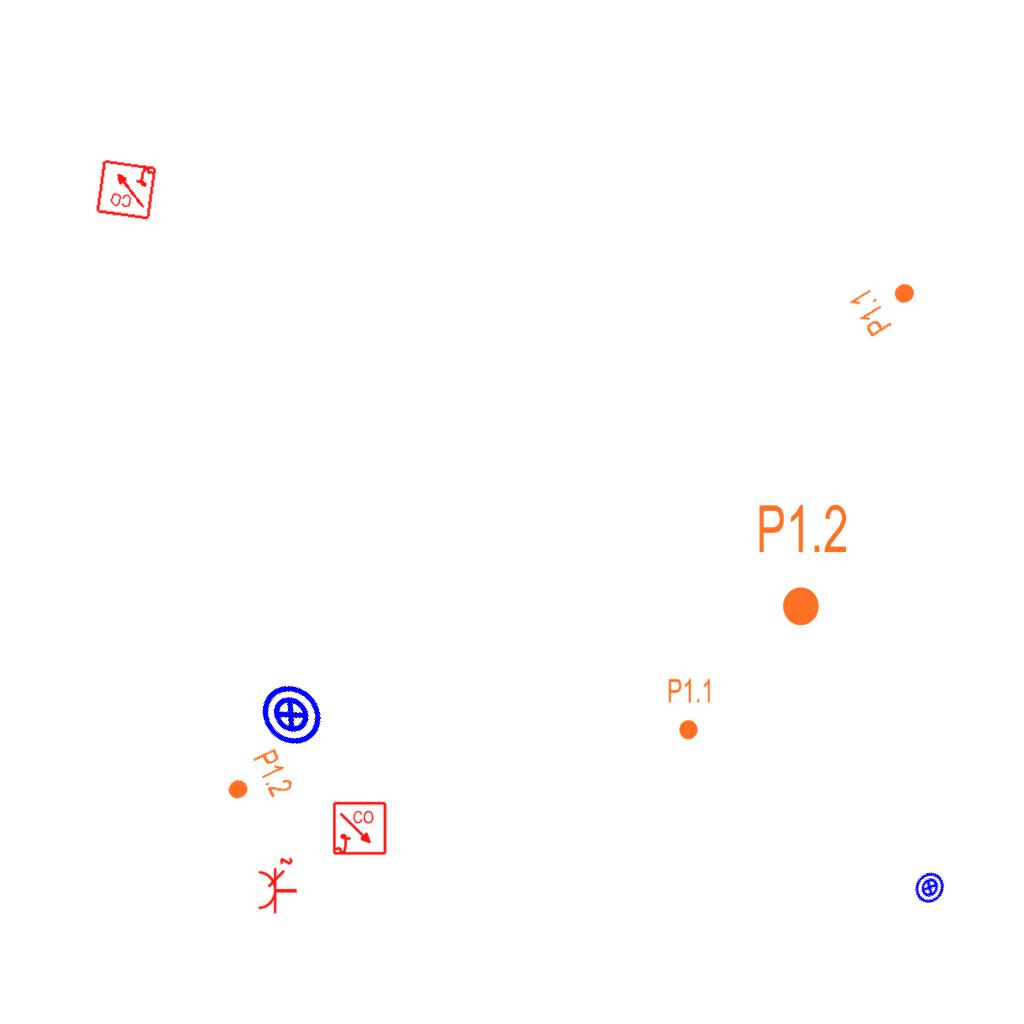Downlight_LED_Einbauleuchten_Flur: (756, 501, 849, 629), (218, 746, 296, 816)
Downlight_LED_Einbauleuchten_Flur_2: (846, 266, 926, 340), (667, 677, 713, 741)
ROA_Rauchmelder_optisch_mit_Signalgeber_(Sockelsirene): (94, 157, 158, 221), (332, 801, 388, 857)
Schukosteckdose_mehrfach: (256, 856, 300, 916)
Taster_beleuchtet: (244, 668, 338, 762), (907, 865, 952, 910)
